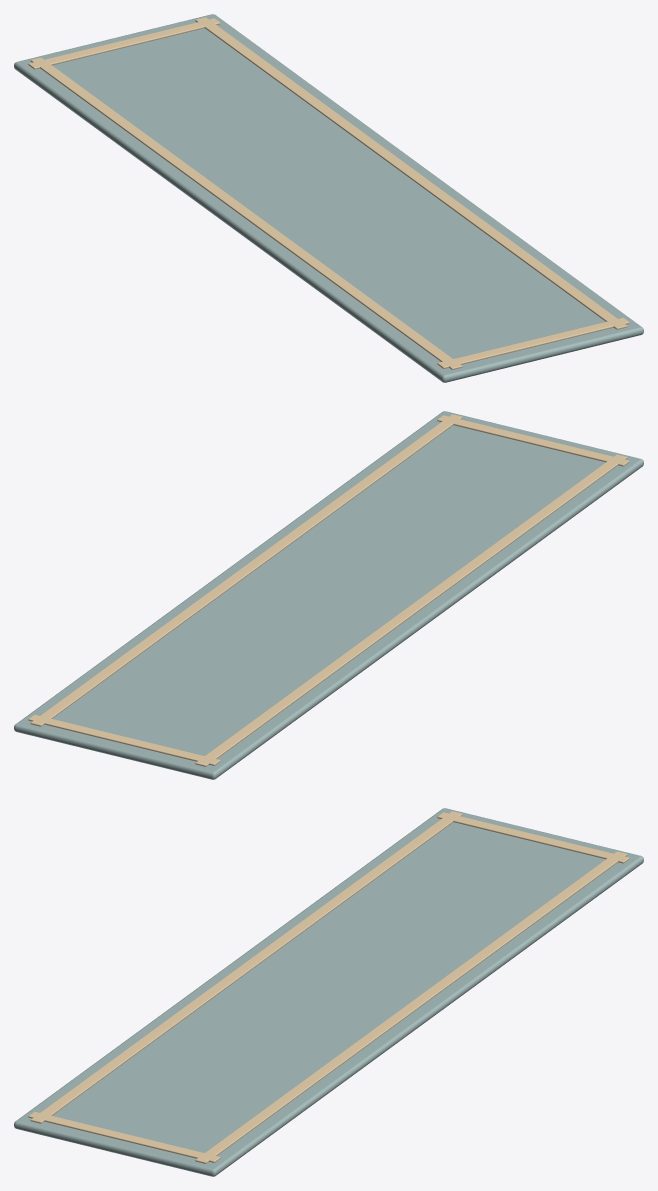
Rendered from atelier-runner-rug.glb.
3 views of the same model, one above another, from view 1: azimuth 30°, elevation 25°; view 2: azimuth 150°, elevation 25°; view 3: azimuth 330°, elevation 25° (orthographic).
Parts seen in each view (by area): view 1: fabric.071, accent.021; view 2: fabric.071, accent.021; view 3: fabric.071, accent.021.
Part boxes in pixels (<box>): fabric.071: <box>14,14,643,382</box>; accent.021: <box>28,17,629,369</box>; fabric.071: <box>14,411,643,779</box>; accent.021: <box>28,414,629,766</box>; fabric.071: <box>14,808,643,1176</box>; accent.021: <box>28,811,629,1163</box>.
Bounding box in the file's own units: 0.65 × 0.03 × 2.4.
